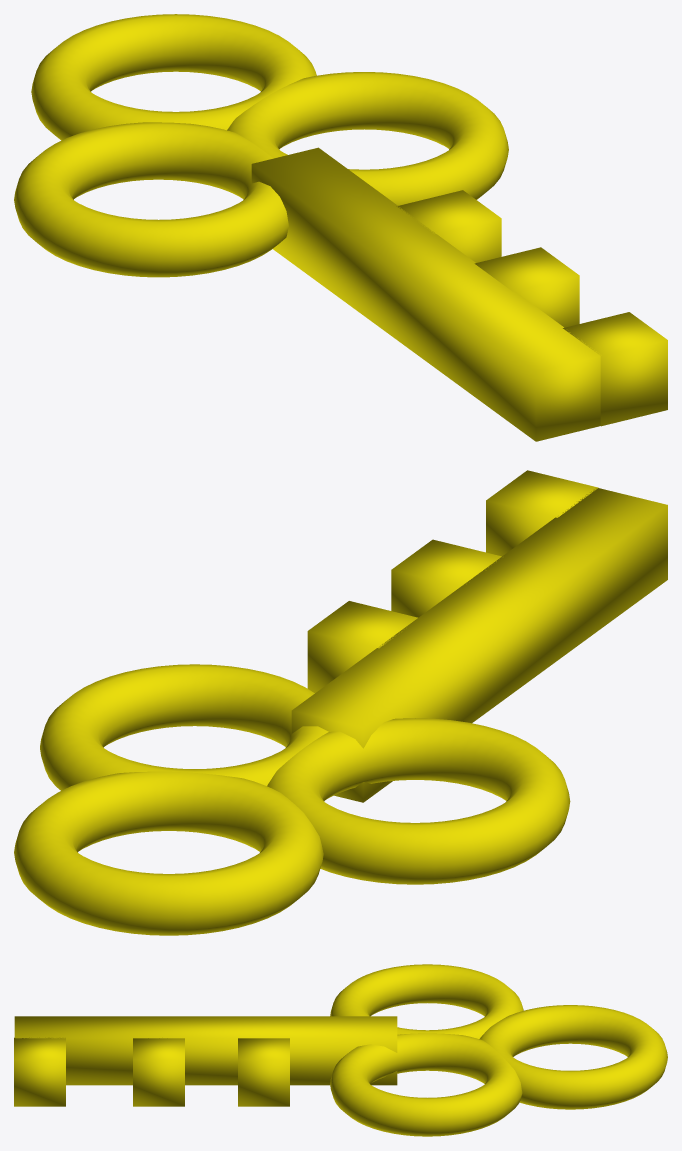
File: key.fbx
The picture shows the model from 3 angles, top to bottom: view 1: azimuth 30°, elevation 25°; view 2: azimuth 150°, elevation 25°; view 3: azimuth 270°, elevation 25°; orthographic projection. The views are drawn at different scales.
Visible parts, largest first — view 1: 立方体; view 2: 立方体; view 3: 立方体.
Boxes of the visible parts, left/top/right/bottom form: 立方体: left=14, top=14, right=667, bottom=441; 立方体: left=14, top=470, right=667, bottom=935; 立方体: left=14, top=964, right=667, bottom=1136.
Bounding box in the file's own units: 1366 × 200 × 2518.
